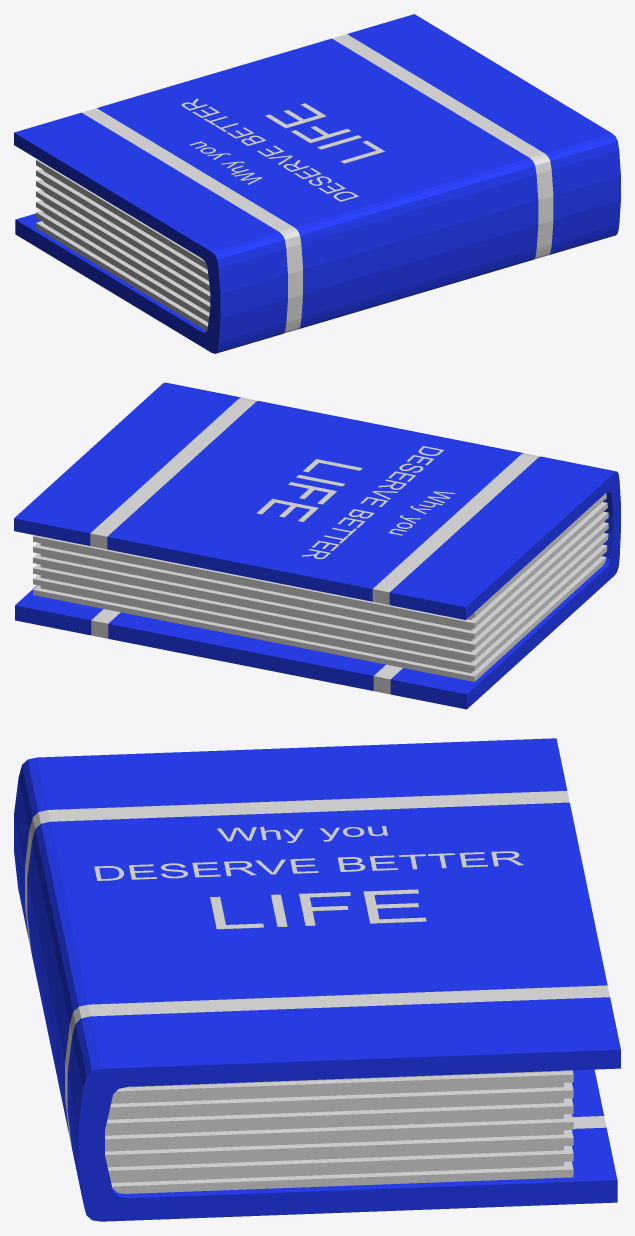
Rendered from kitaab Book.fbx.
3 views of the same model, one above another, from view 1: azimuth 30°, elevation 25°; view 2: azimuth 150°, elevation 25°; view 3: azimuth 270°, elevation 25° (orthographic). The views are drawn at different scales.
Parts seen in each view (by area): view 1: Box001, Box002, Text002, Text003; view 2: Box001, Box002, Text002, Text003, Text001; view 3: Box001, Box002, Text002, Text003, Text001.
Boxes of the visible parts, left/top/right/bottom form: Box001: left=14, top=14, right=620, bottom=353; Box002: left=36, top=159, right=210, bottom=330; Text002: left=181, top=98, right=358, bottom=201; Text003: left=265, top=103, right=384, bottom=163; Box001: left=14, top=382, right=620, bottom=709; Box002: left=33, top=493, right=608, bottom=681; Text002: left=301, top=446, right=443, bottom=559; Text003: left=256, top=459, right=362, bottom=521; Text001: left=388, top=491, right=455, bottom=535; Box001: left=14, top=738, right=620, bottom=1221; Box002: left=105, top=1070, right=573, bottom=1193; Text002: left=94, top=851, right=523, bottom=880; Text003: left=210, top=889, right=426, bottom=929; Text001: left=217, top=826, right=387, bottom=842.
Size of the model in its own units: 800723 by 172474 by 619693.
